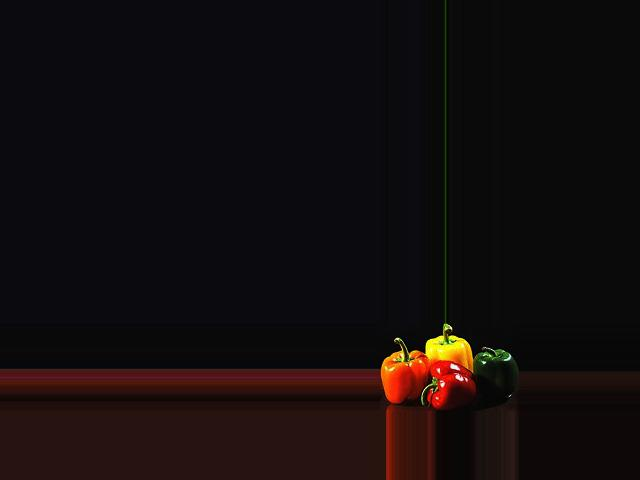bell_pepper: (380, 343, 430, 412)
